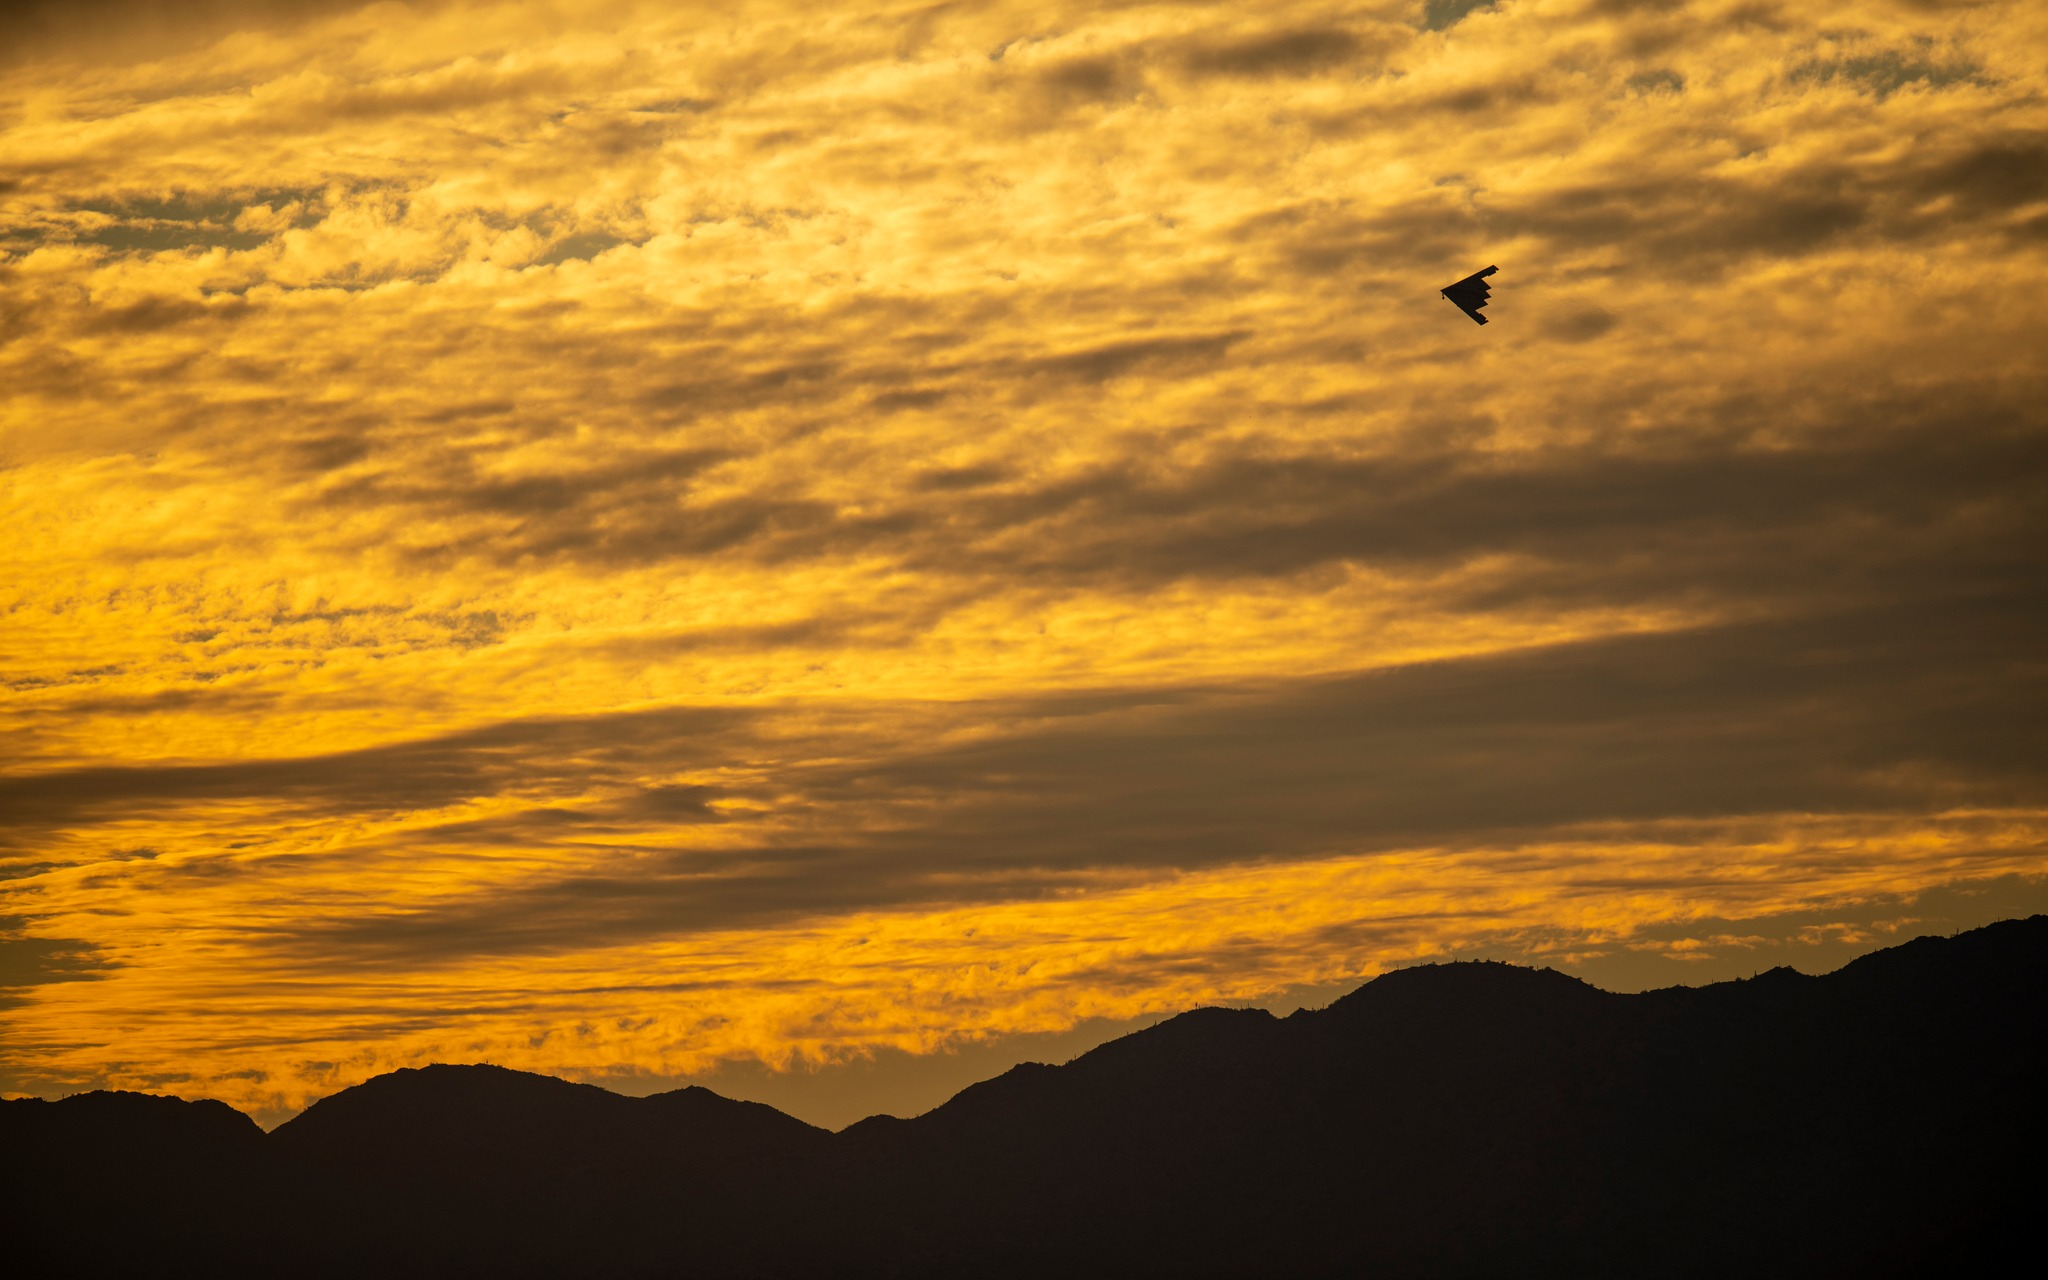B2: (1439, 264, 1500, 327)
